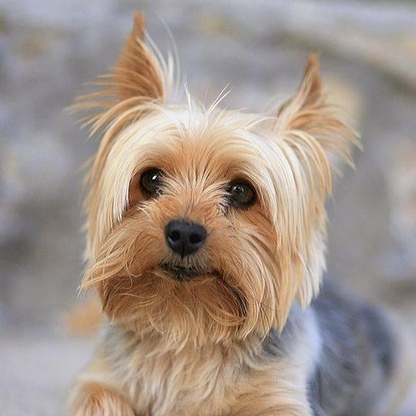yorkshire: (76, 10, 403, 416)
